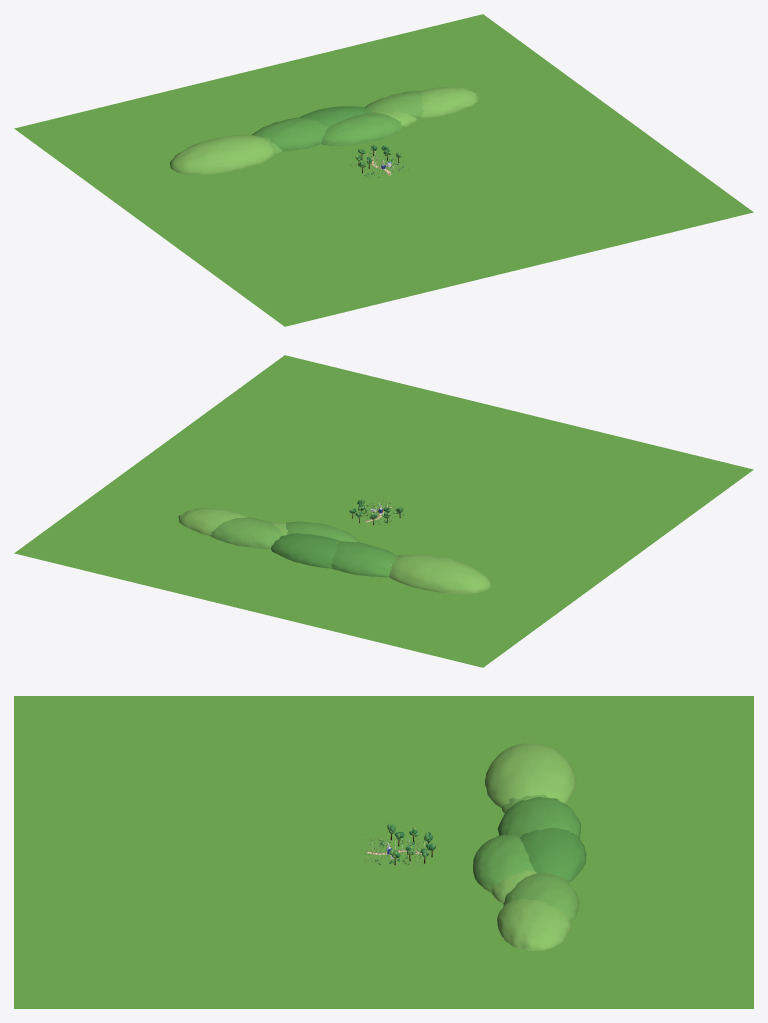
File: B_garden.glb
The picture shows the model from 3 angles, top to bottom: view 1: azimuth 30°, elevation 25°; view 2: azimuth 150°, elevation 25°; view 3: azimuth 270°, elevation 25°; orthographic projection. The views are drawn at different scales.
Parts seen in each view (by area): view 1: environment_0, environment_1, environment_6, environment_4, environment_2, environment_5; view 2: environment_0, environment_1, environment_4, environment_5, environment_2, environment_6; view 3: environment_0, environment_1, environment_5, environment_4, environment_6, environment_2.
Boxes of the visible parts, x1,y1,x2,y2 form: environment_0: (14, 14, 753, 326); environment_1: (170, 87, 478, 174); environment_6: (321, 113, 404, 146); environment_4: (251, 117, 328, 151); environment_2: (256, 91, 424, 154); environment_5: (299, 106, 371, 126); environment_0: (14, 355, 753, 667); environment_1: (178, 508, 491, 594); environment_4: (331, 541, 396, 577); environment_5: (271, 533, 340, 568); environment_2: (210, 517, 399, 572); environment_6: (285, 521, 359, 542); environment_0: (14, 696, 753, 1008); environment_1: (485, 743, 576, 950); environment_5: (519, 828, 586, 881); environment_4: (497, 797, 580, 838); environment_6: (473, 834, 534, 892); environment_2: (502, 794, 579, 922).
Size of the model in its own units: 200 by 13.83 by 200.
Materials: 80 (4 with a texture image).
